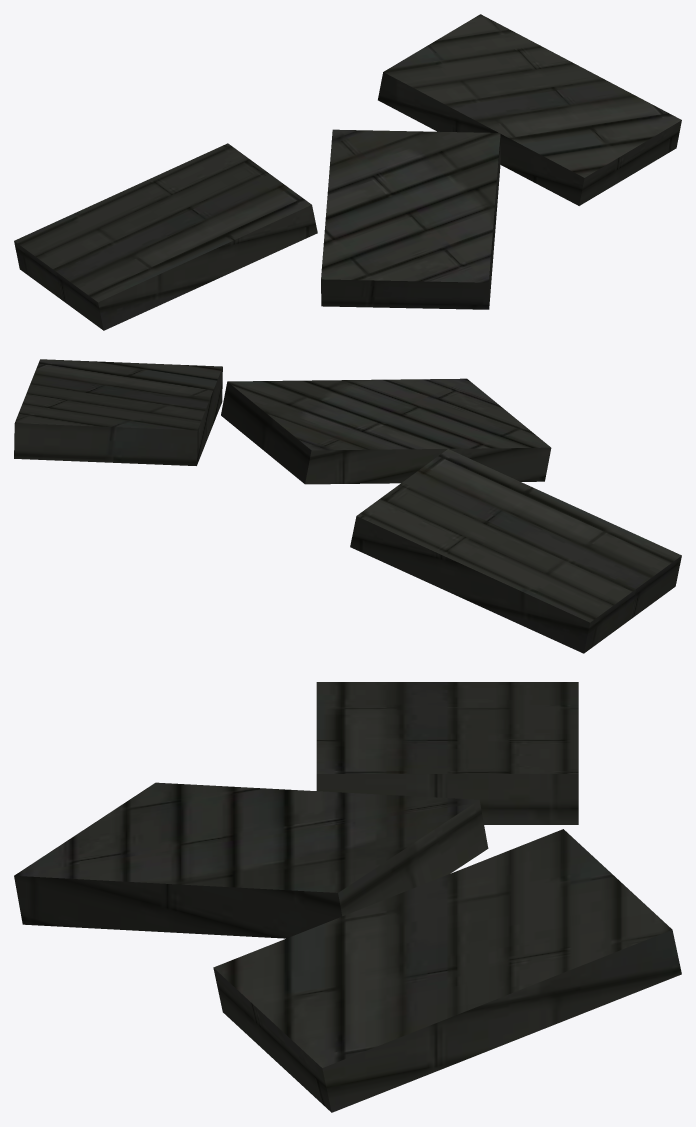
File: roof_tile_shards_01.glb
3 views of the same model, one above another, from view 1: azimuth 30°, elevation 25°; view 2: azimuth 150°, elevation 25°; view 3: azimuth 270°, elevation 25° (orthographic). The views are drawn at different scales.
Visible parts, largest first — view 1: roof_tile_shards_01; view 2: roof_tile_shards_01; view 3: roof_tile_shards_01.
Part boxes in pixels (x1=…): roof_tile_shards_01: x1=14, y1=14, x2=681, y2=330; roof_tile_shards_01: x1=14, y1=359, x2=681, y2=653; roof_tile_shards_01: x1=14, y1=682, x2=681, y2=1112.
Bounding box in the file's own units: 1.61 × 0.2977 × 1.02.
1 material, 1 textured.
